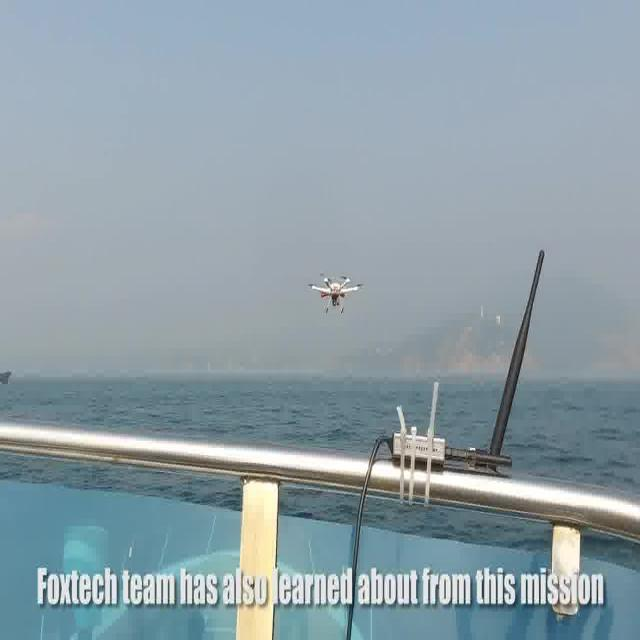Drone_FW: (309, 268, 365, 320)
